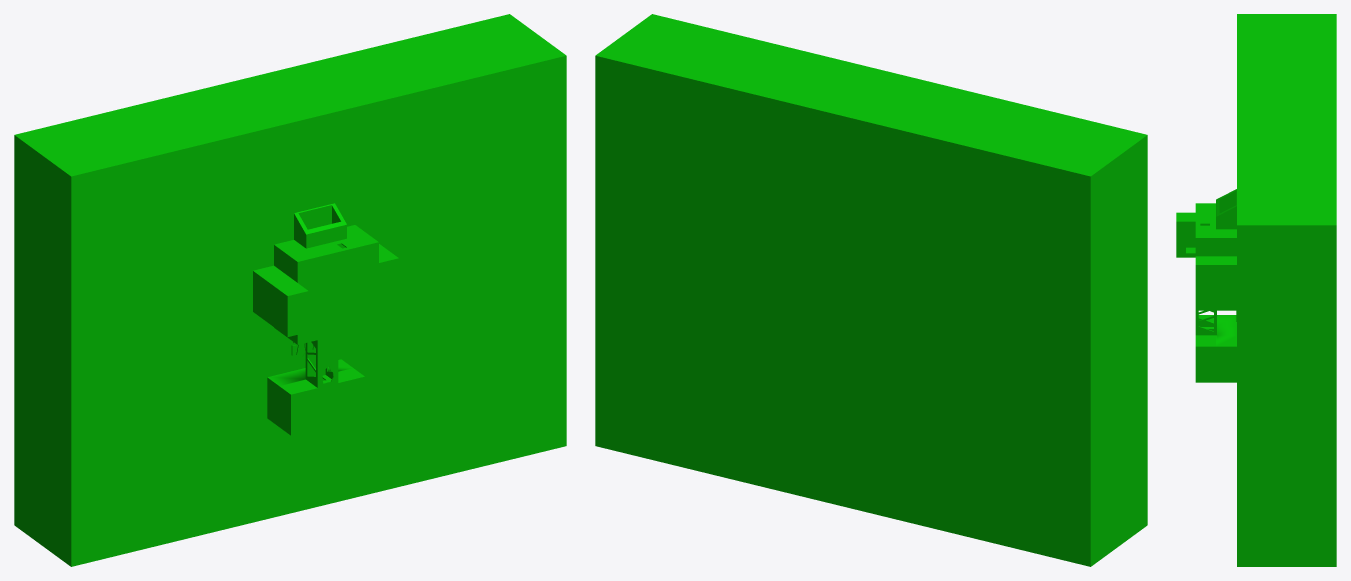
The model's file is debug_0003_dec.obj.
3 views of the same model, side by side, from view 1: azimuth 30°, elevation 25°; view 2: azimuth 150°, elevation 25°; view 3: azimuth 270°, elevation 25° (orthographic). The views are drawn at different scales.
Visible parts, largest first — view 1: RENDER.019_Cube.188; view 2: RENDER.019_Cube.188; view 3: RENDER.019_Cube.188.
Part boxes in pixels (left/top/right/bottom): RENDER.019_Cube.188: left=14, top=14, right=566, bottom=566; RENDER.019_Cube.188: left=595, top=14, right=1147, bottom=566; RENDER.019_Cube.188: left=1176, top=14, right=1336, bottom=566.
Size of the model in its own units: 2072 by 1560 by 664.
